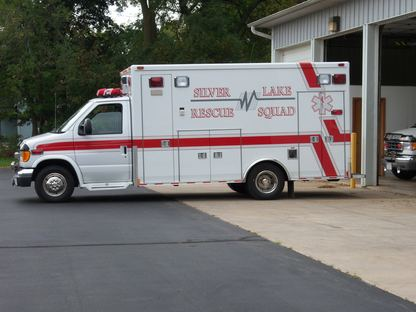ambulance: (11, 62, 366, 203)
